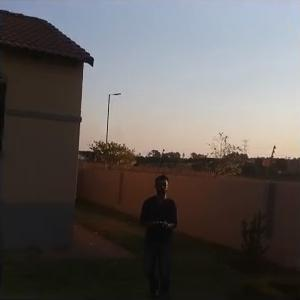follow: (136, 166, 186, 298)
